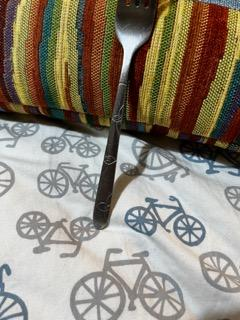fork: (92, 0, 160, 231)
